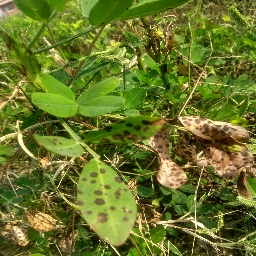GroundNut_Leaf: (72, 159, 139, 248), (84, 116, 166, 151), (33, 133, 81, 161), (29, 93, 78, 118), (78, 96, 126, 116), (84, 76, 119, 94), (150, 224, 167, 244)
